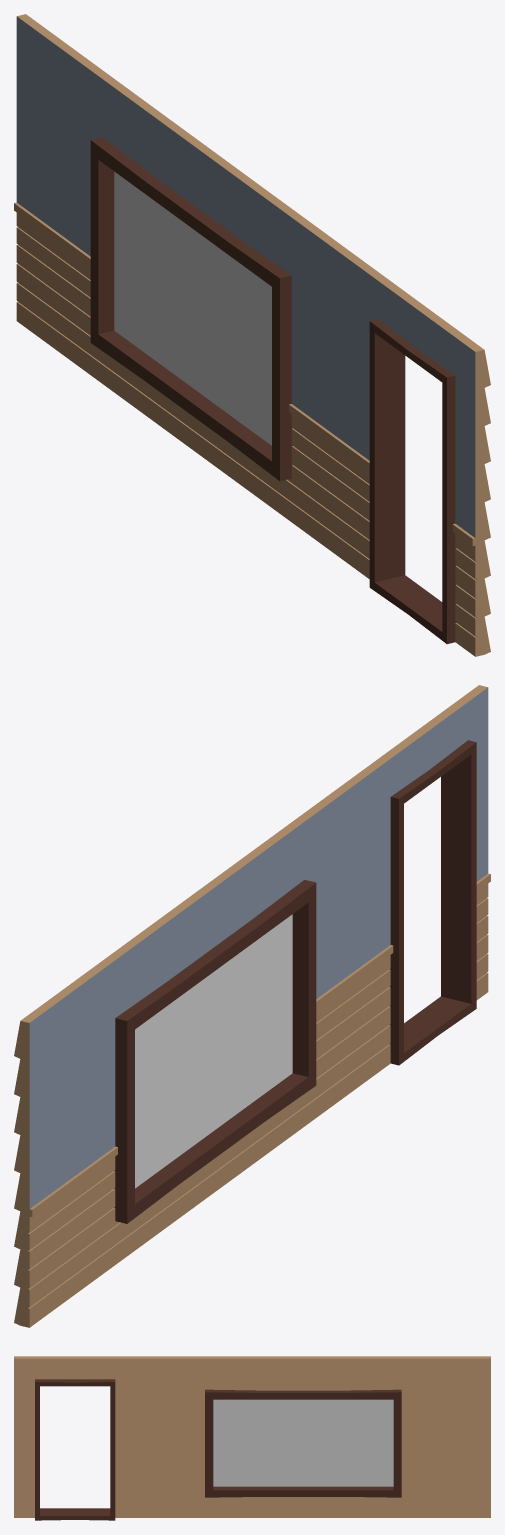
The model's file is Door and Window B-col.glb.
3 views of the same model, one above another, from view 1: azimuth 30°, elevation 25°; view 2: azimuth 150°, elevation 25°; view 3: azimuth 270°, elevation 25° (orthographic). The views are drawn at different scales.
Parts seen in each view (by area): view 1: Door and Window B-col.001; view 2: Door and Window B-col.001; view 3: Door and Window B-col.001.
Boxes of the visible parts, left/top/right/bottom form: Door and Window B-col.001: left=14, top=14, right=490, bottom=656; Door and Window B-col.001: left=14, top=685, right=490, bottom=1327; Door and Window B-col.001: left=14, top=1356, right=490, bottom=1520.
Bounding box in the file's own units: 0.2603 × 2.2 × 6.
